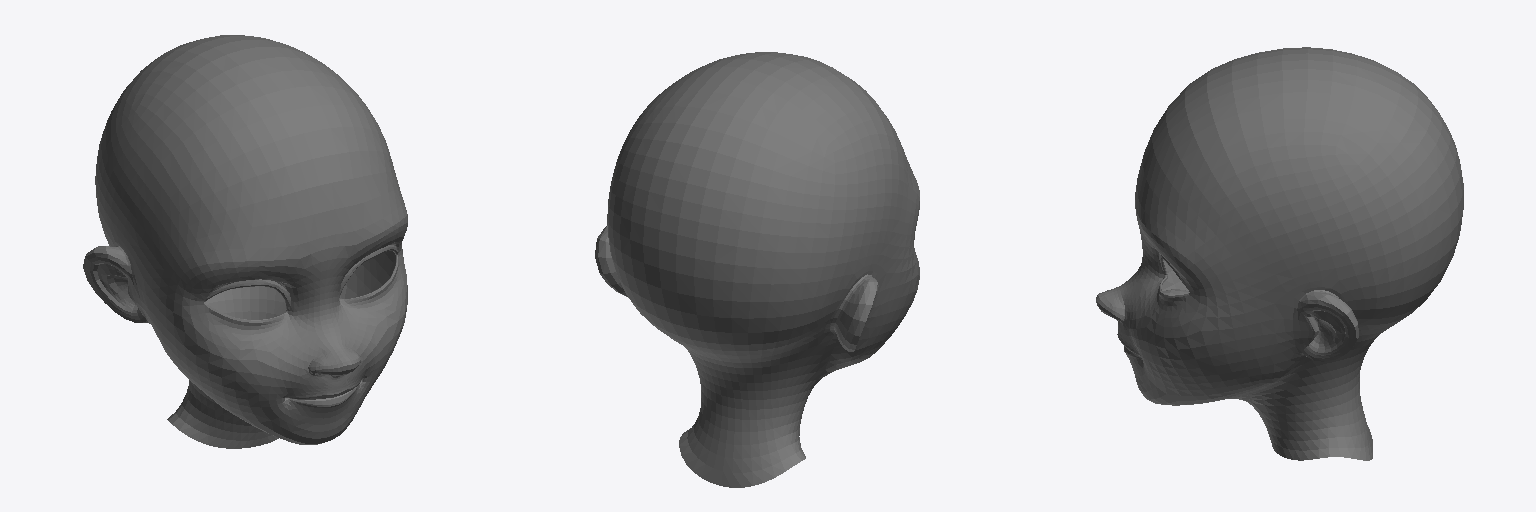
Rendered from pos12.obj.
The picture shows the model from 3 angles: view 1: azimuth 30°, elevation 25°; view 2: azimuth 150°, elevation 25°; view 3: azimuth 270°, elevation 25°; orthographic projection.
Visible parts, largest first — view 1: Mesh1; view 2: Mesh1; view 3: Mesh1.
Boxes of the visible parts, <box> form: Mesh1: <box>83,35,407,448</box>; Mesh1: <box>595,52,919,487</box>; Mesh1: <box>1096,47,1463,460</box>.
Bounding box in the file's own units: 23.75 × 32.31 × 27.53.